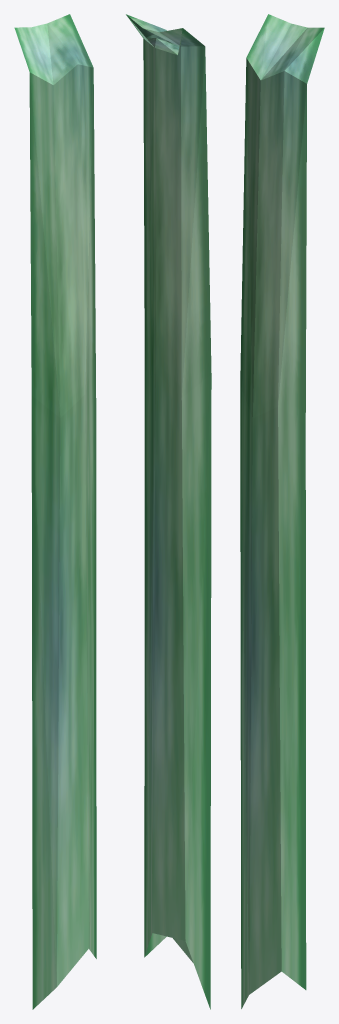
The model's file is crypt_water_grate.fbx.
The picture shows the model from 3 angles, left to right: view 1: azimuth 30°, elevation 25°; view 2: azimuth 150°, elevation 25°; view 3: azimuth 330°, elevation 25°; orthographic projection. The views are drawn at different scales.
Visible parts, largest first — view 1: obj1.018; view 2: obj1.018; view 3: obj1.018.
Boxes of the visible parts, x1,y1,x2,y2 form: obj1.018: (14, 14, 96, 1009); obj1.018: (126, 14, 211, 1009); obj1.018: (240, 14, 324, 1008).
Bounding box in the file's own units: 1.03 × 14.63 × 0.9237.
